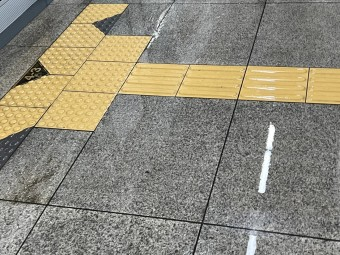guideBlock: (185, 61, 245, 98), (244, 65, 307, 97), (124, 63, 181, 97), (311, 59, 340, 101)
warningBlock: (59, 91, 111, 138), (1, 103, 45, 155), (74, 62, 122, 97), (4, 78, 64, 106), (96, 32, 147, 60), (70, 1, 119, 25), (36, 46, 83, 70), (60, 26, 114, 45)
